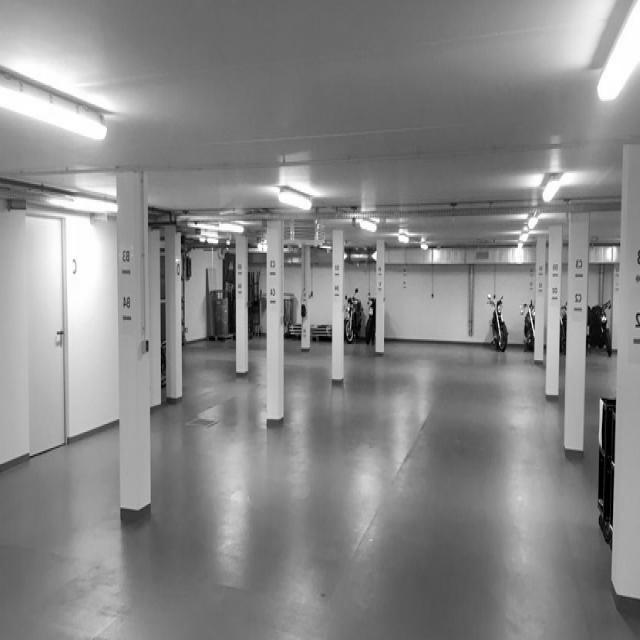light: (0, 67, 108, 140), (595, 0, 639, 102), (277, 186, 312, 211)
